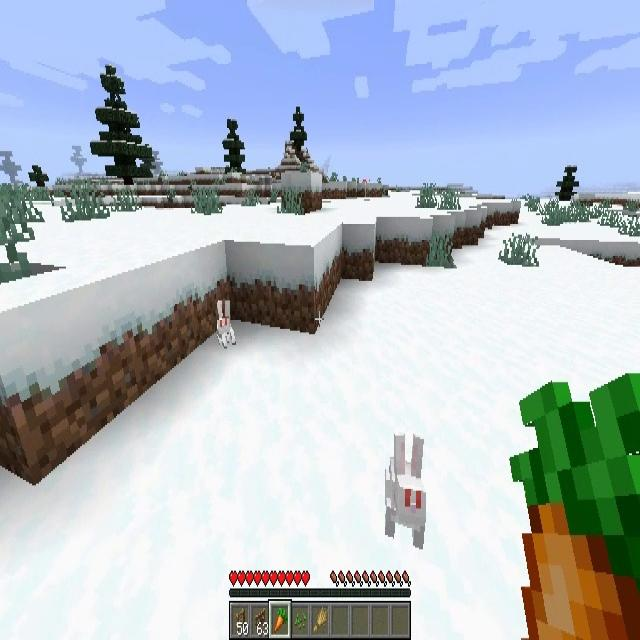rabbit: (384, 435, 424, 550), (216, 300, 236, 348)
